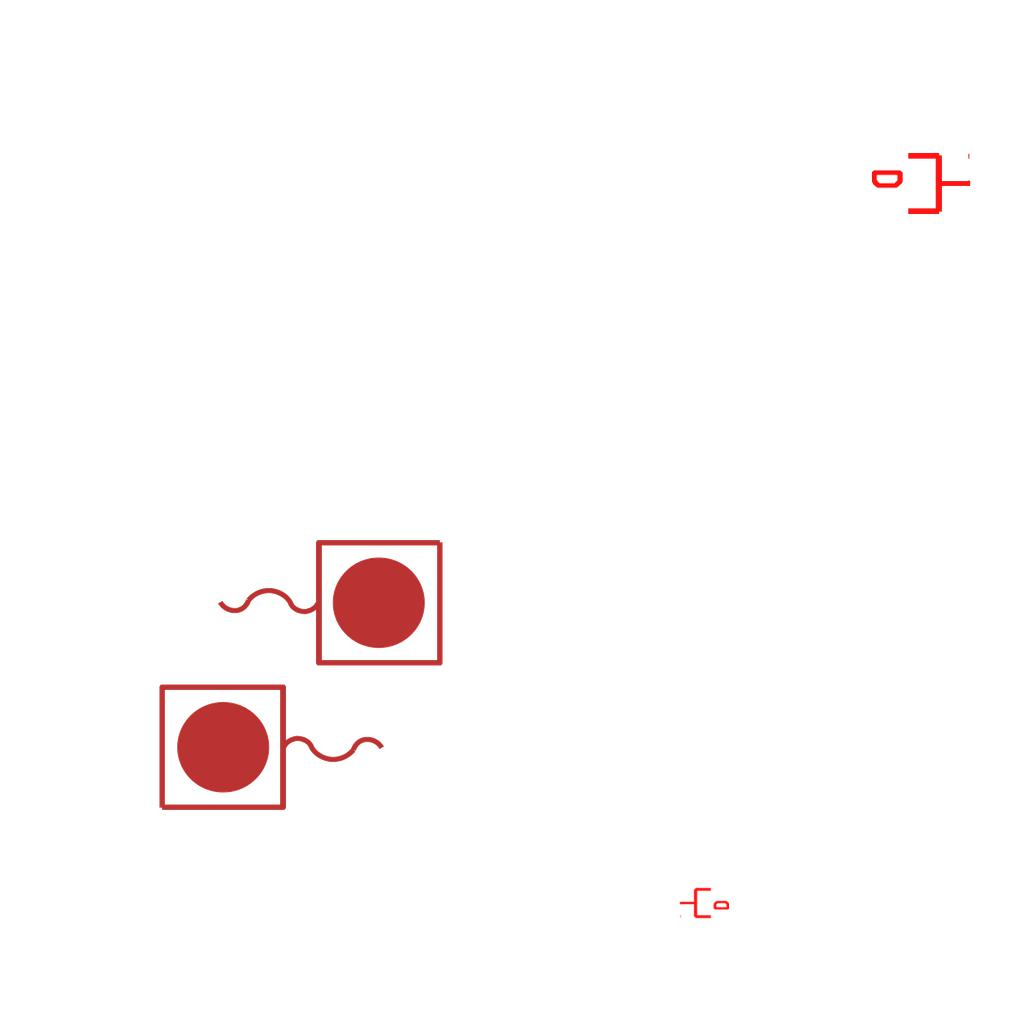Datenanschluss_einfach: (872, 149, 972, 218), (679, 886, 729, 920)
Zugtaster: (207, 529, 451, 673), (151, 677, 395, 821)
